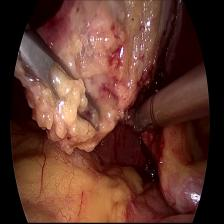Clipper: (123, 88, 162, 145)
Grasper: (18, 24, 104, 137)
